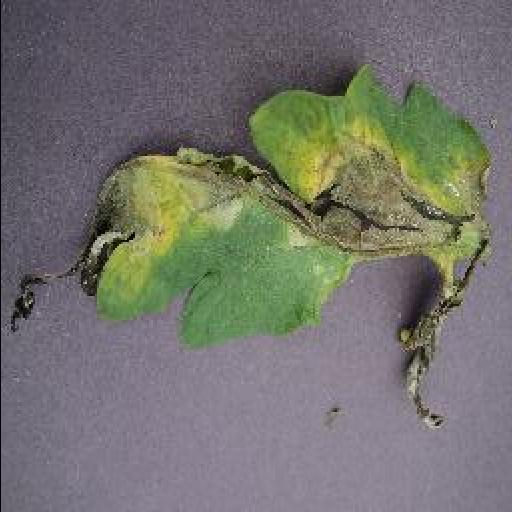disease_tomato: (0, 62, 494, 426)
